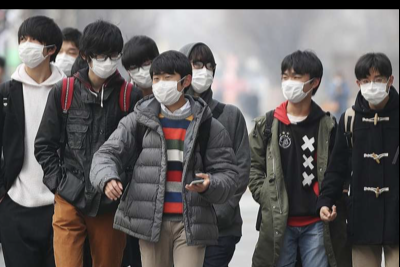with_mask: (15, 35, 46, 70), (280, 70, 311, 104), (88, 51, 123, 79), (153, 73, 182, 106), (189, 58, 215, 92), (359, 73, 388, 103), (53, 44, 77, 75), (128, 61, 156, 87)
